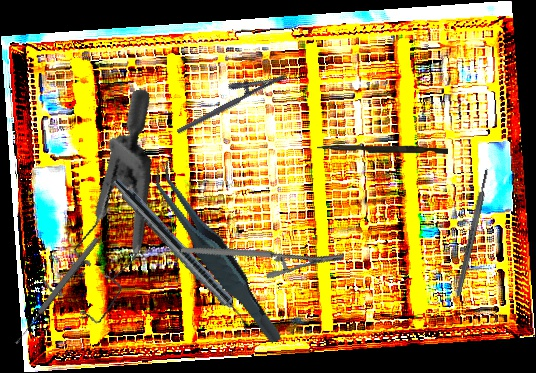Handpiece: (107, 175, 258, 336)
Needle Holder: (179, 195, 346, 311), (168, 59, 288, 135)
Pusher: (317, 145, 448, 154)
Scalpel Handle: (454, 167, 491, 299)
Speculum: (1, 87, 203, 336)
Surgical Spoon: (12, 236, 101, 346)
Tissue Forceps: (148, 145, 284, 362)
